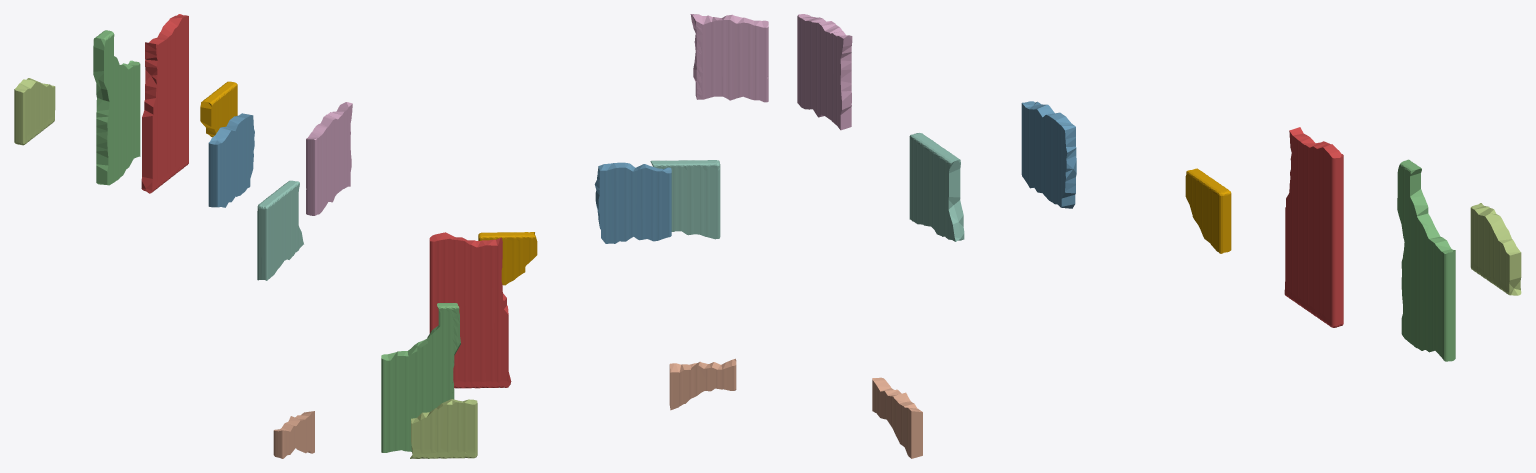
Rendered from fractured_27_8pcs_transformed.glb.
3 views of the same model, side by side, from view 1: azimuth 30°, elevation 25°; view 2: azimuth 150°, elevation 25°; view 3: azimuth 270°, elevation 25° (orthographic). The views are drawn at different scales.
Visible parts, largest first — view 1: piece_1.obj, piece_3.obj, piece_6.obj, piece_2.obj, piece_4.obj, piece_5.obj, piece_7.obj, piece_0.obj; view 2: piece_1.obj, piece_3.obj, piece_6.obj, piece_2.obj, piece_4.obj, piece_5.obj, piece_7.obj, piece_0.obj; view 3: piece_1.obj, piece_3.obj, piece_6.obj, piece_2.obj, piece_4.obj, piece_5.obj, piece_0.obj, piece_7.obj.
Part boxes in pixels (<box>): piece_1.obj: <box>141,14,188,193</box>; piece_3.obj: <box>93,30,140,185</box>; piece_6.obj: <box>306,102,352,215</box>; piece_2.obj: <box>208,113,254,207</box>; piece_4.obj: <box>257,180,303,280</box>; piece_5.obj: <box>14,78,55,145</box>; piece_7.obj: <box>273,411,314,458</box>; piece_0.obj: <box>200,81,237,137</box>; piece_1.obj: <box>429,232,511,388</box>; piece_3.obj: <box>381,303,460,458</box>; piece_6.obj: <box>690,14,768,102</box>; piece_2.obj: <box>594,162,671,243</box>; piece_4.obj: <box>650,160,720,239</box>; piece_5.obj: <box>410,399,477,458</box>; piece_7.obj: <box>669,358,736,410</box>; piece_0.obj: <box>478,232,537,285</box>; piece_1.obj: <box>1284,127,1343,327</box>; piece_3.obj: <box>1397,159,1455,361</box>; piece_6.obj: <box>797,14,852,130</box>; piece_2.obj: <box>1021,101,1076,208</box>; piece_4.obj: <box>909,133,964,241</box>; piece_5.obj: <box>1470,203,1521,295</box>; piece_0.obj: <box>1185,168,1231,253</box>; piece_7.obj: <box>872,377,922,458</box>.
Size of the model in its own units: 0.3933 by 1.26 by 1.94.
